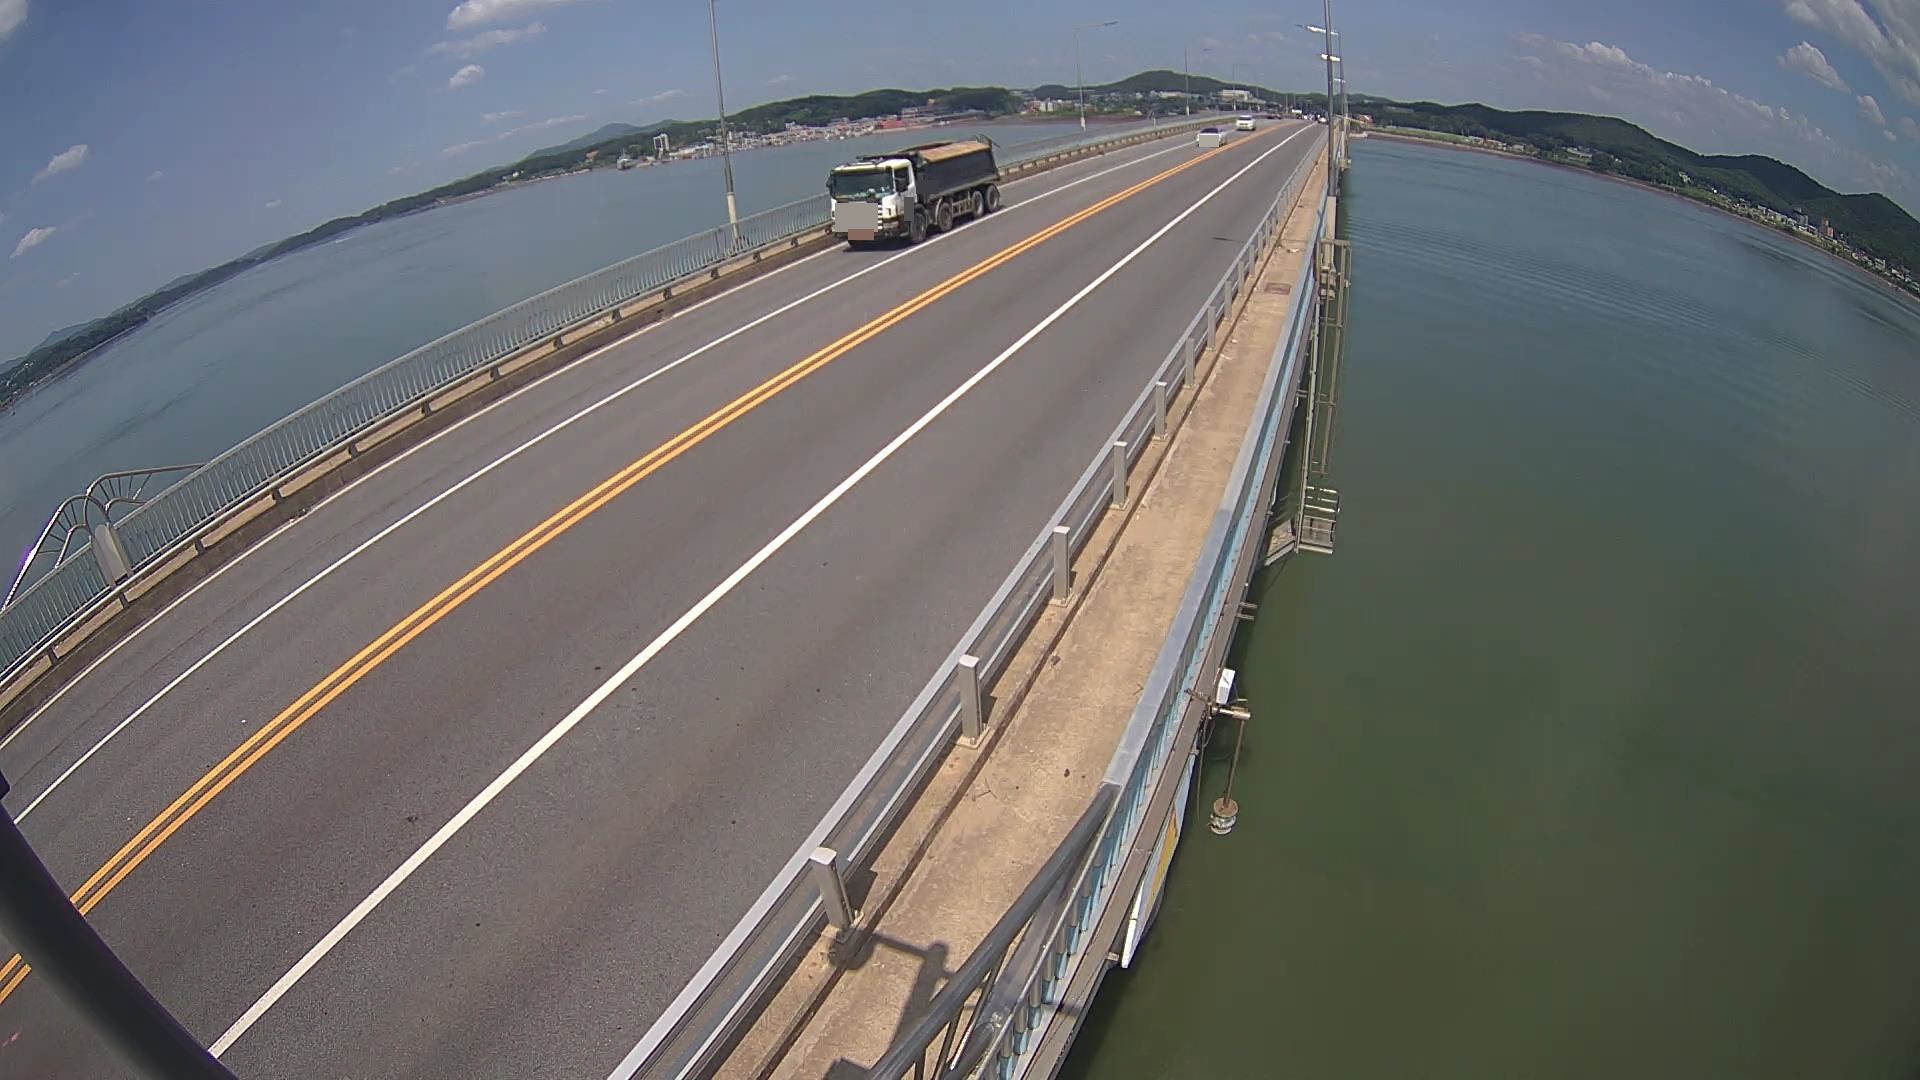정상차량: (824, 137, 1004, 248)
